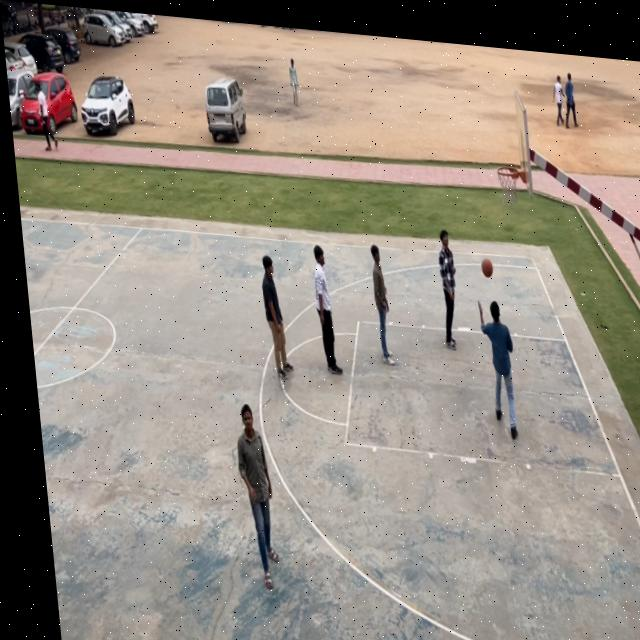basketball: (479, 256, 496, 282)
hoop: (492, 159, 526, 211)
